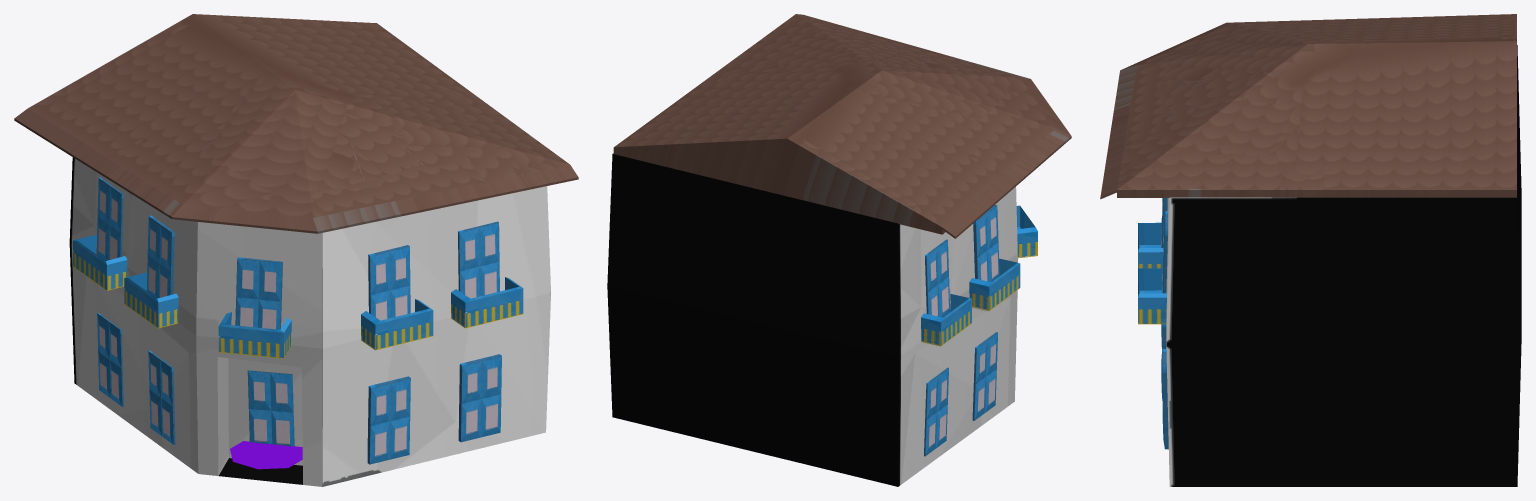
Rendered from house.glb.
3 renders of one model, left to right at view 1: azimuth 30°, elevation 25°; view 2: azimuth 150°, elevation 25°; view 3: azimuth 270°, elevation 25°, orthographic. The views are drawn at different scales.
Visible parts, largest first — view 1: basecasa, techo, puerta_2, puerta_3, puerta_1, puerta_10, puerta_7, puerta_6, balcon_1, bacon_2, balcon_3, puerta_4 (+6 smaller); view 2: basecasa, techo, puerta_4, puerta_8, puerta_5, puerta_9, balcon_5, balcon_4, balcon_1; view 3: basecasa, techo, balcon_3, bacon_2, puerta_3.
Boxes of the visible parts, bbox=[...] form: basecasa: bbox=[69, 157, 550, 486]; techo: bbox=[14, 14, 578, 233]; puerta_2: bbox=[367, 376, 410, 464]; puerta_3: bbox=[458, 354, 501, 442]; puerta_1: bbox=[247, 370, 294, 446]; puerta_10: bbox=[235, 257, 282, 329]; puerta_7: bbox=[458, 221, 499, 298]; puerta_6: bbox=[368, 245, 410, 320]; balcon_1: bbox=[218, 312, 291, 358]; bacon_2: bbox=[361, 299, 433, 350]; balcon_3: bbox=[451, 277, 523, 328]; puerta_4: bbox=[148, 350, 175, 444]; basecasa: bbox=[607, 153, 1017, 486]; techo: bbox=[613, 14, 1071, 238]; puerta_4: bbox=[972, 332, 997, 420]; puerta_8: bbox=[973, 205, 999, 281]; puerta_5: bbox=[924, 367, 948, 456]; puerta_9: bbox=[925, 239, 950, 317]; balcon_5: bbox=[921, 294, 971, 346]; balcon_4: bbox=[969, 258, 1020, 310]; balcon_1: bbox=[1016, 205, 1037, 258]; basecasa: bbox=[1166, 45, 1521, 486]; techo: bbox=[1100, 14, 1516, 199]; balcon_3: bbox=[1138, 268, 1166, 324]; bacon_2: bbox=[1138, 222, 1163, 268]; puerta_3: bbox=[1161, 349, 1168, 449].
Size of what is drawn, in the model's own units: 21.91 by 19.43 by 21.05.
18 materials, 17 textured.
